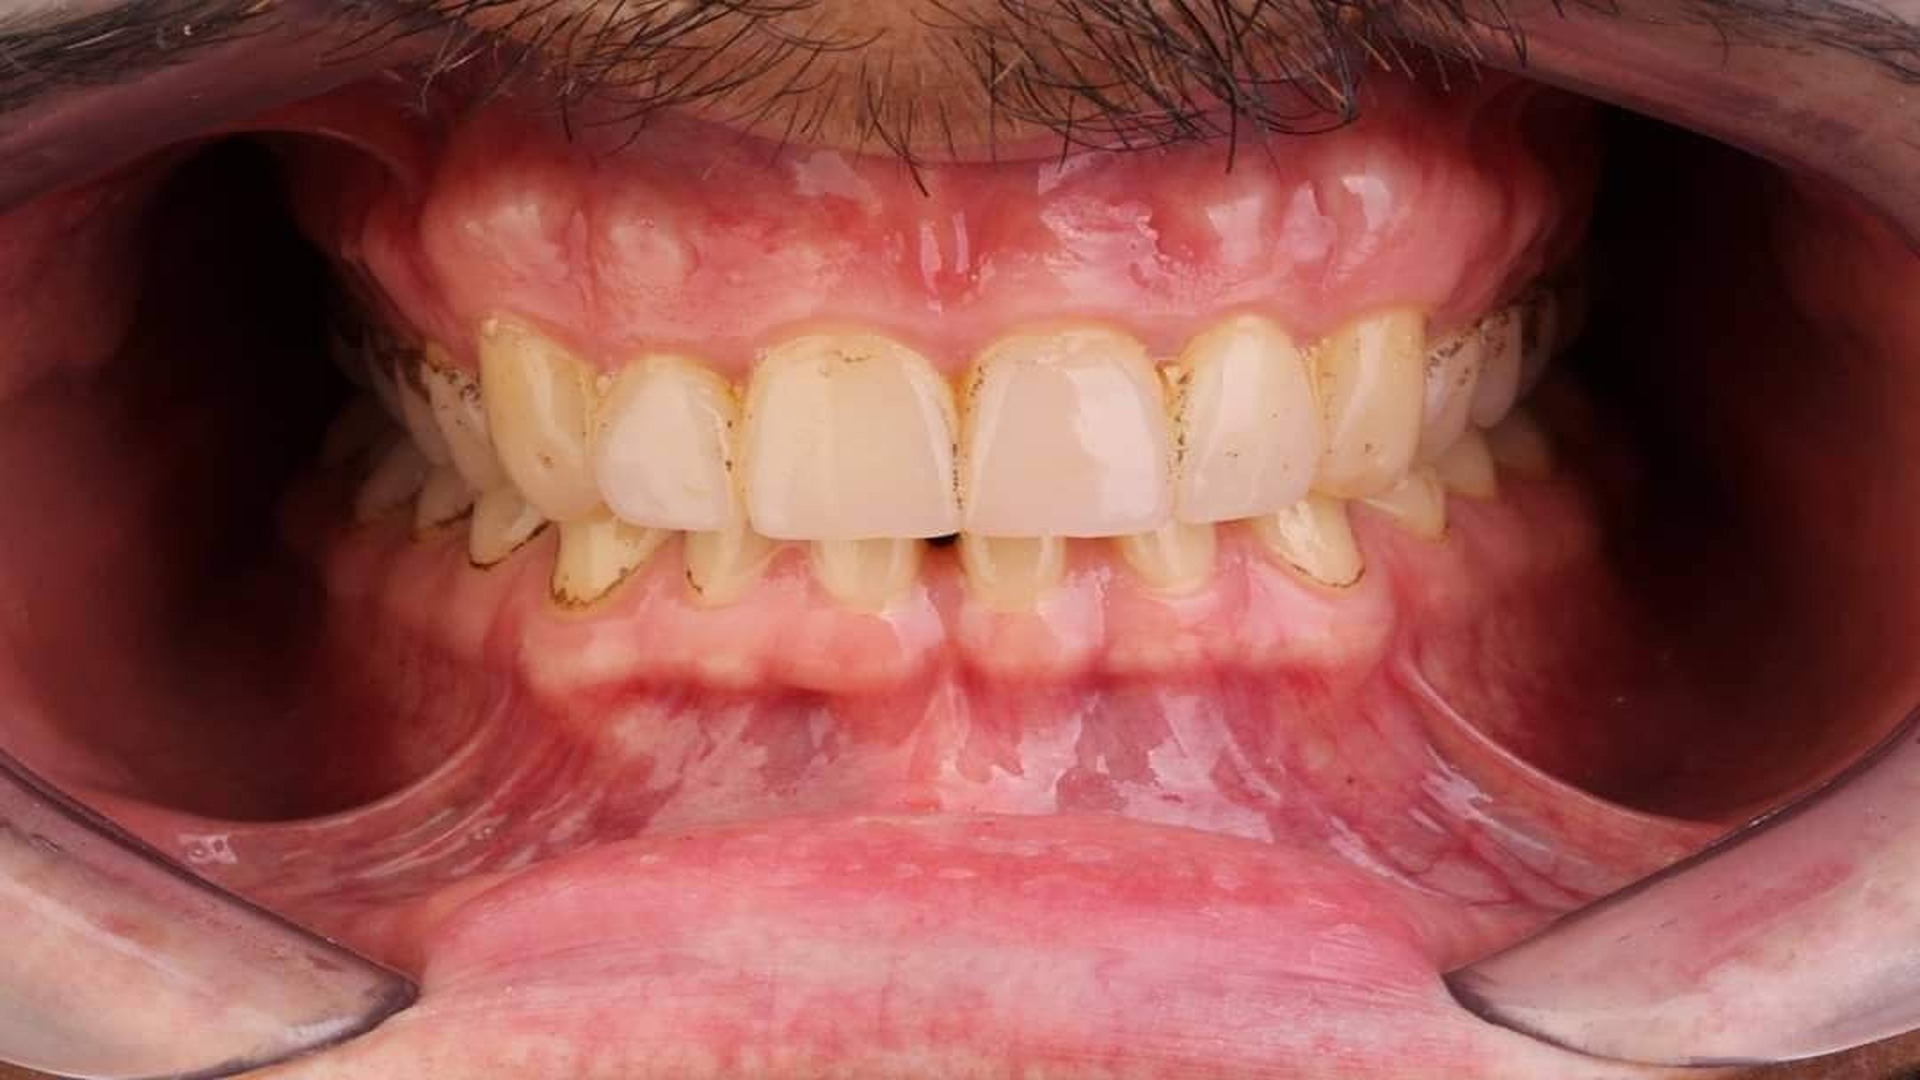tooth: (740, 331, 962, 541), (957, 324, 1172, 536), (1167, 316, 1321, 524), (479, 317, 611, 521), (594, 356, 743, 531), (1309, 306, 1425, 497), (552, 502, 679, 614), (1241, 492, 1365, 590), (422, 366, 508, 492), (811, 539, 929, 613), (954, 530, 1065, 601), (1422, 330, 1481, 458), (1121, 521, 1215, 594), (684, 525, 778, 597), (1363, 469, 1448, 539)
